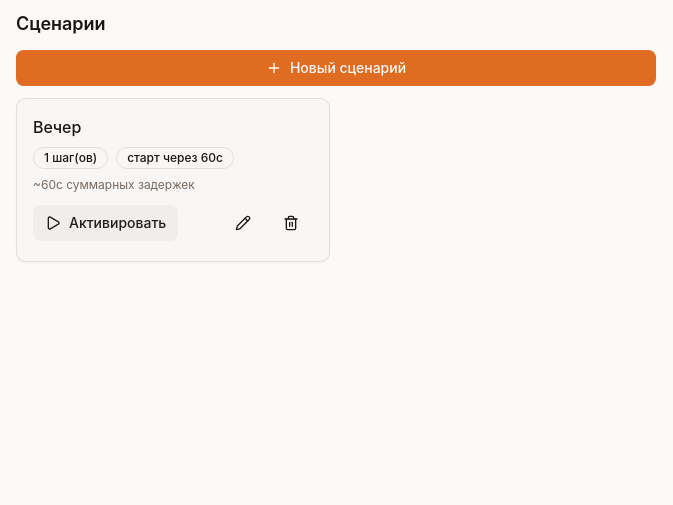
Scenario: <ScenariosScreen /> › не даёт сохранить сценарий без шагов
The image size is (673, 505).
Check: the heading "Вечер" is shown, box x1=33 y1=115 x2=81 y2=139
Click the button "Новый сценарий". click: coordinates (336, 68)
box: x1=16 y1=50 x2=656 y2=86
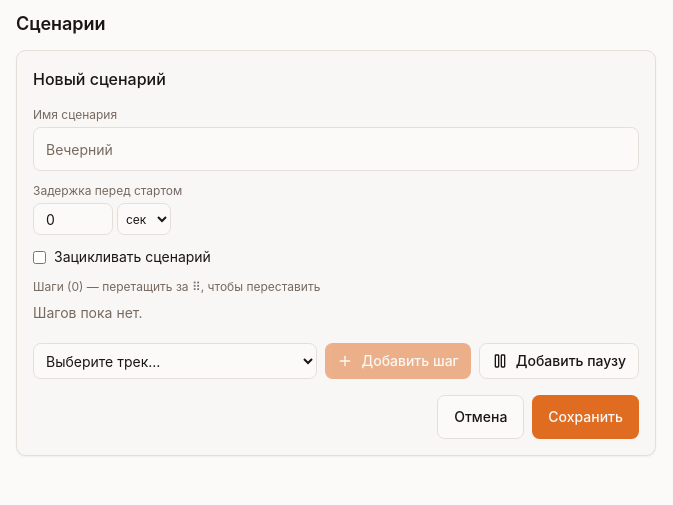
Type "Пустой" into the field labelled "Имя сценария". click: coordinates (336, 149)
box: x1=33 y1=127 x2=639 y2=171
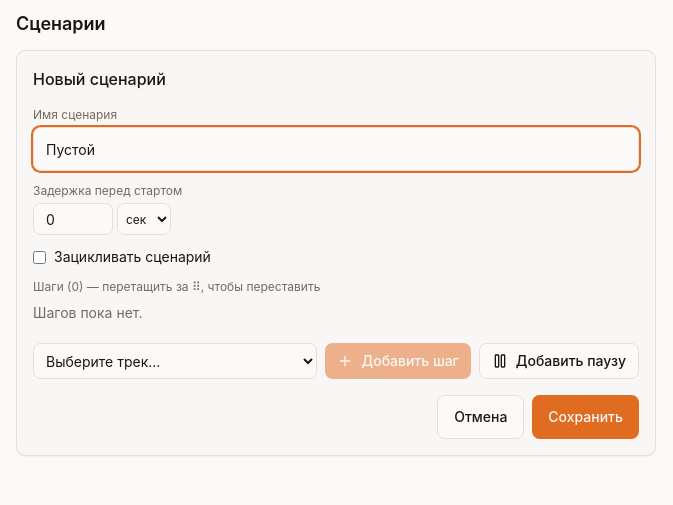
Click the button "Сохранить". click: coordinates (586, 417)
box: x1=532 y1=395 x2=639 y2=439
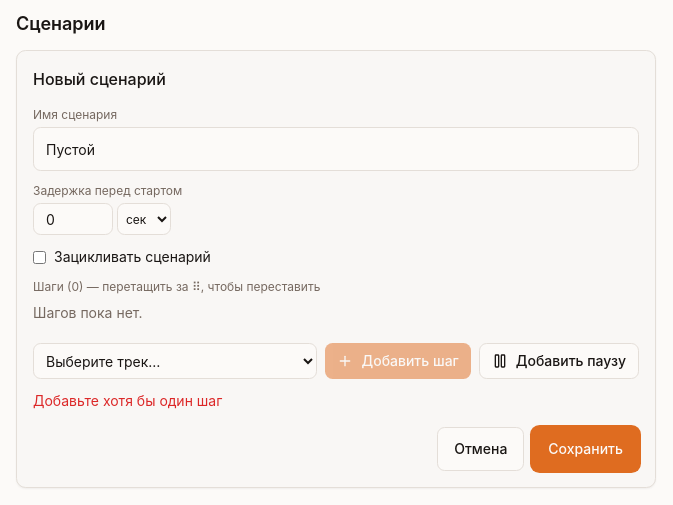
Check: the text "Добавьте хотя бы один шаг" is shown, box x1=33 y1=392 x2=222 y2=409
